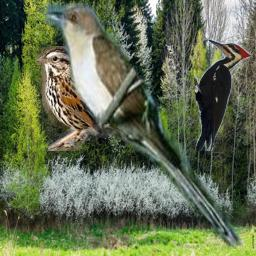Cuckoo: (41, 1, 243, 256)
Sparrow: (35, 46, 151, 151)
Woodpecker: (194, 38, 253, 151)
